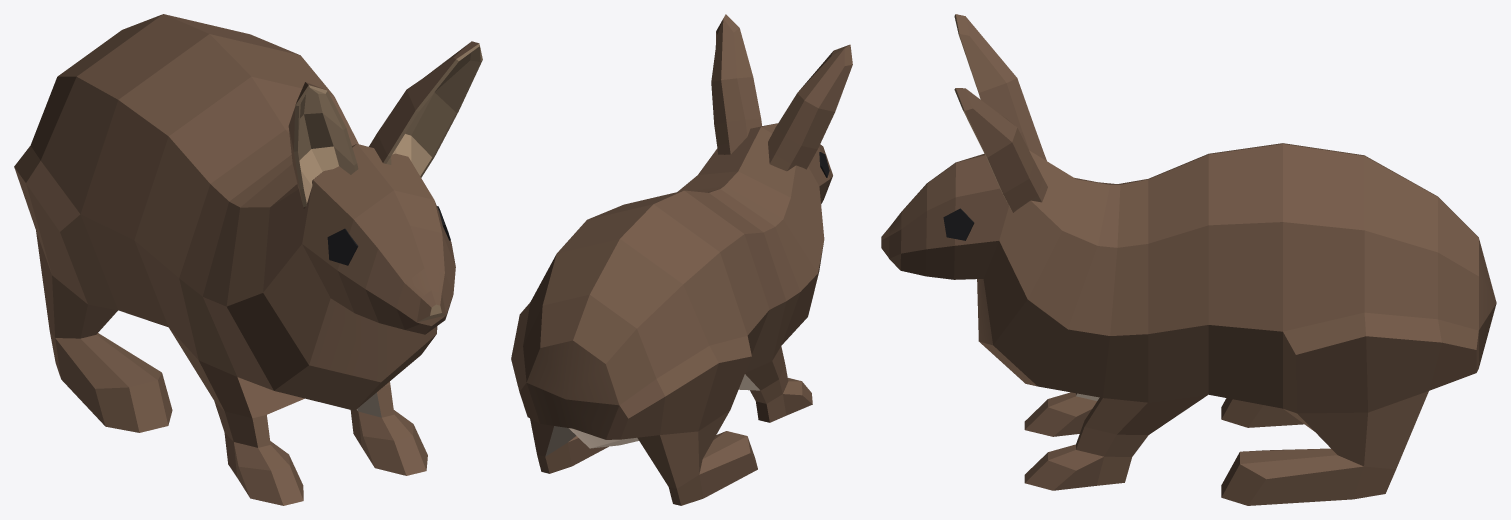
The model's file is Mesh_Rabbit.obj.
The picture shows the model from 3 angles, left to right: view 1: azimuth 30°, elevation 25°; view 2: azimuth 150°, elevation 25°; view 3: azimuth 270°, elevation 25°; orthographic projection. The views are drawn at different scales.
Visible parts, largest first — view 1: Geo_Rabbit; view 2: Geo_Rabbit; view 3: Geo_Rabbit.
Part boxes in pixels (left/top/right/bottom): Geo_Rabbit: left=14, top=14, right=482, bottom=505; Geo_Rabbit: left=511, top=14, right=852, bottom=505; Geo_Rabbit: left=881, top=14, right=1496, bottom=505.
Bounding box in the file's own units: 41.05 × 62.44 × 86.73.
Materials: 1 (1 with a texture image).
